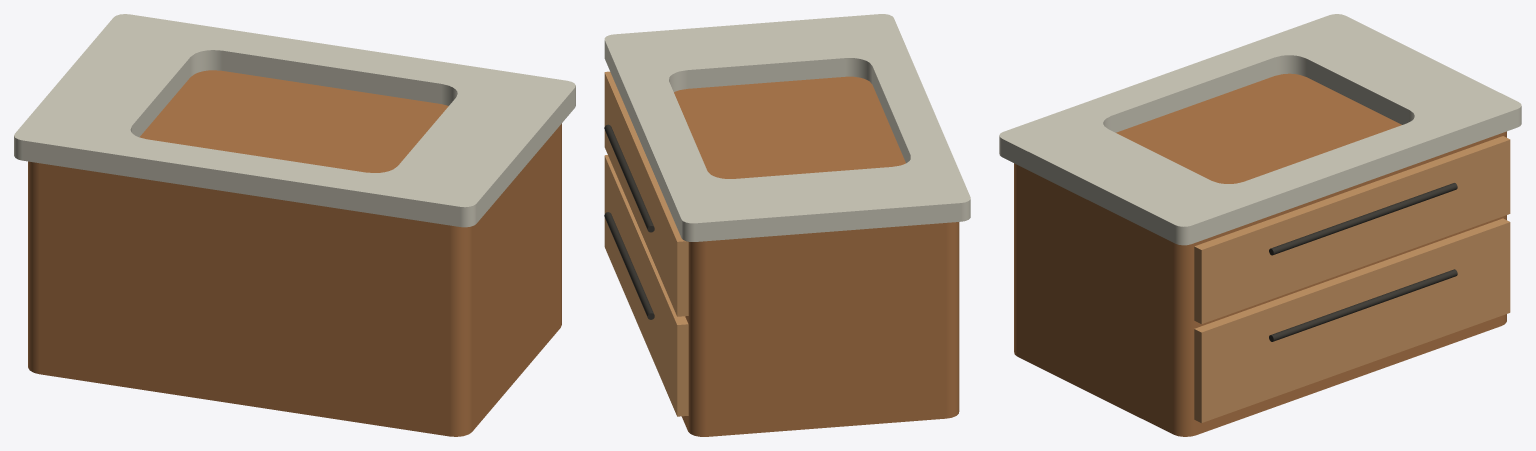
File: bathroom-vanity-cabinet.gltf
3 views of the same model, side by side, from view 1: azimuth 30°, elevation 25°; view 2: azimuth 150°, elevation 25°; view 3: azimuth 270°, elevation 25° (orthographic). The views are drawn at different scales.
Parts seen in each view (by area): view 1: Bathroom floating oak vanity, Vanity stone top with basin opening; view 2: Bathroom floating oak vanity, Vanity stone top with basin opening, Vanity lower drawer, Vanity upper drawer, Vanity recessed brass pull (×2); view 3: Bathroom floating oak vanity, Vanity stone top with basin opening, Vanity lower drawer, Vanity upper drawer, Vanity recessed brass pull (×2).
Boxes of the visible parts, x1,y1,x2,y2 form: Bathroom floating oak vanity: (28,70,561,436); Vanity stone top with basin opening: (14,14,575,227); Bathroom floating oak vanity: (674,76,959,436); Vanity stone top with basin opening: (604,14,970,241); Vanity lower drawer: (604,155,688,416); Vanity upper drawer: (604,71,688,316); Vanity recessed brass pull (×2): (604,124,654,319); Bathroom floating oak vanity: (1014,73,1506,436); Vanity stone top with basin opening: (999,14,1521,245); Vanity lower drawer: (1194,218,1510,422); Vanity upper drawer: (1194,136,1510,324); Vanity recessed brass pull (×2): (1269,183,1457,341).
Bounding box in the file's own units: 1.11 × 0.525 × 1.15.
